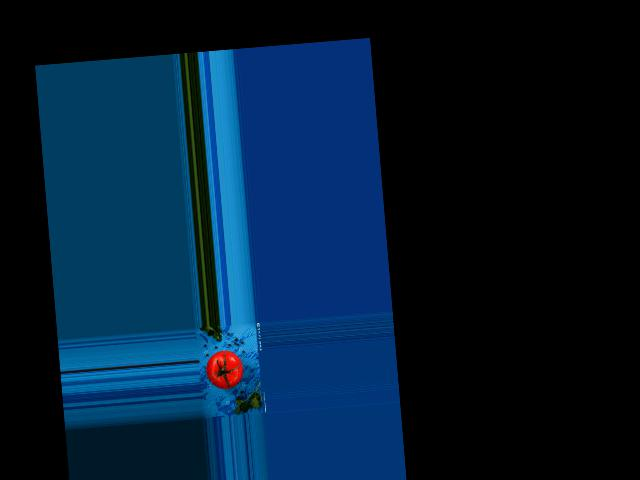tomato: (205, 349, 244, 390)
